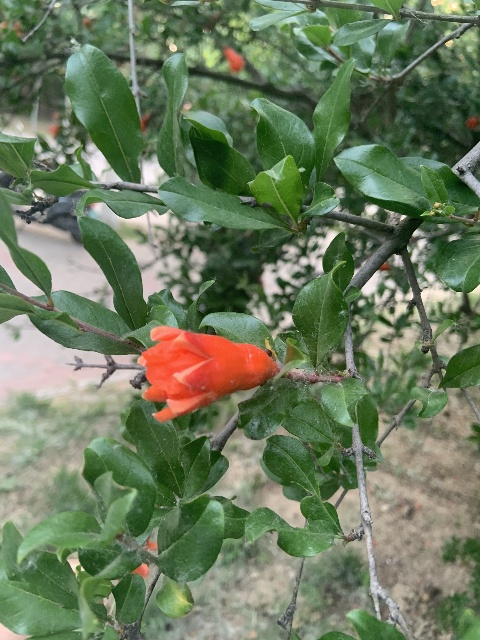flower: (137, 326, 276, 421), (223, 47, 244, 73)
